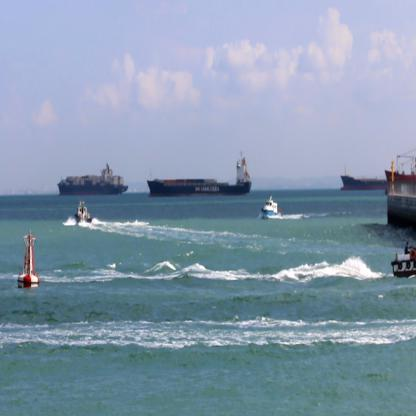Container Ship: (147, 150, 253, 198), (58, 160, 128, 196), (340, 166, 387, 192)
